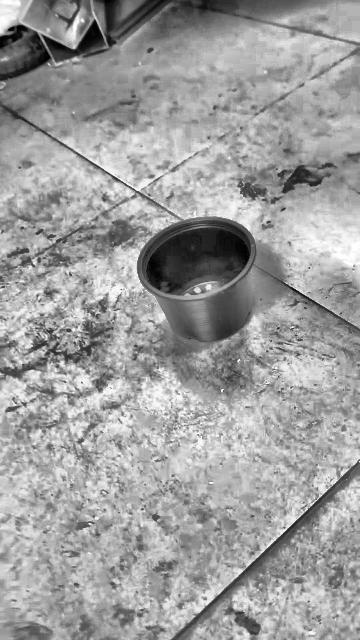pot: (137, 217, 255, 342)
